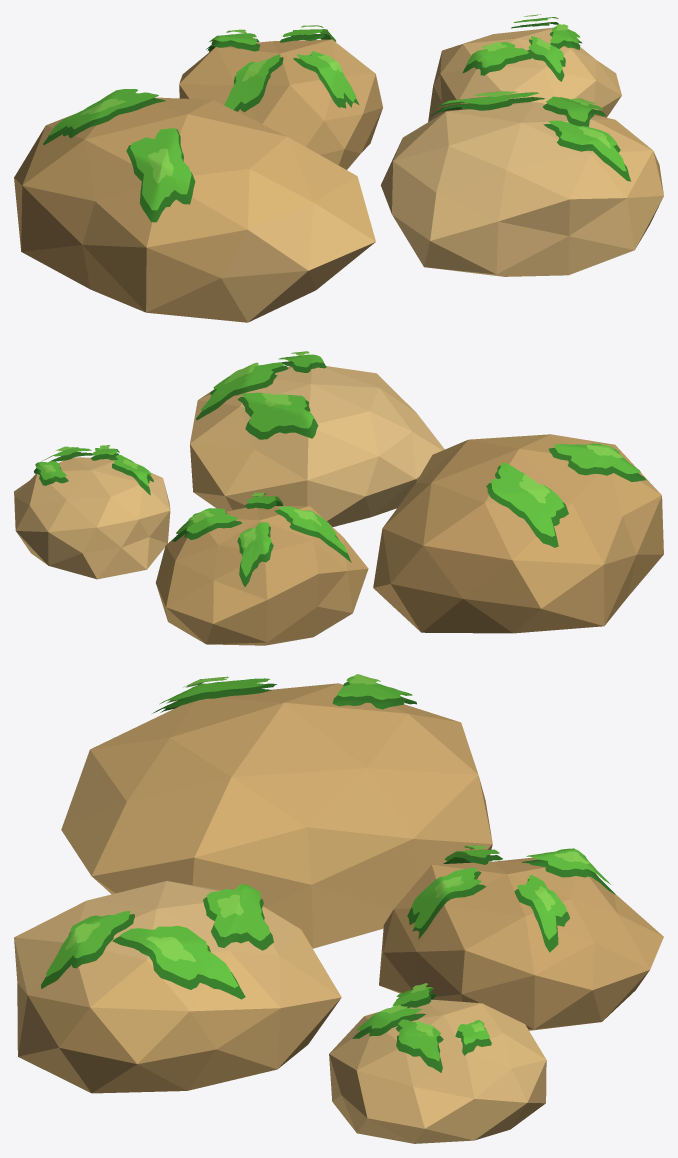
The model's file is rock_8_rim.glb.
The picture shows the model from 3 angles, top to bottom: view 1: azimuth 30°, elevation 25°; view 2: azimuth 150°, elevation 25°; view 3: azimuth 270°, elevation 25°; orthographic projection. The views are drawn at different scales.
Parts seen in each view (by area): view 1: rock_8_rim; view 2: rock_8_rim; view 3: rock_8_rim.
Boxes of the visible parts, x1=… form: rock_8_rim: x1=14, y1=14, x2=663, y2=322; rock_8_rim: x1=14, y1=351, x2=663, y2=645; rock_8_rim: x1=14, y1=674, x2=663, y2=1143.
Size of the model in its own units: 1.32 by 0.3368 by 1.02.
